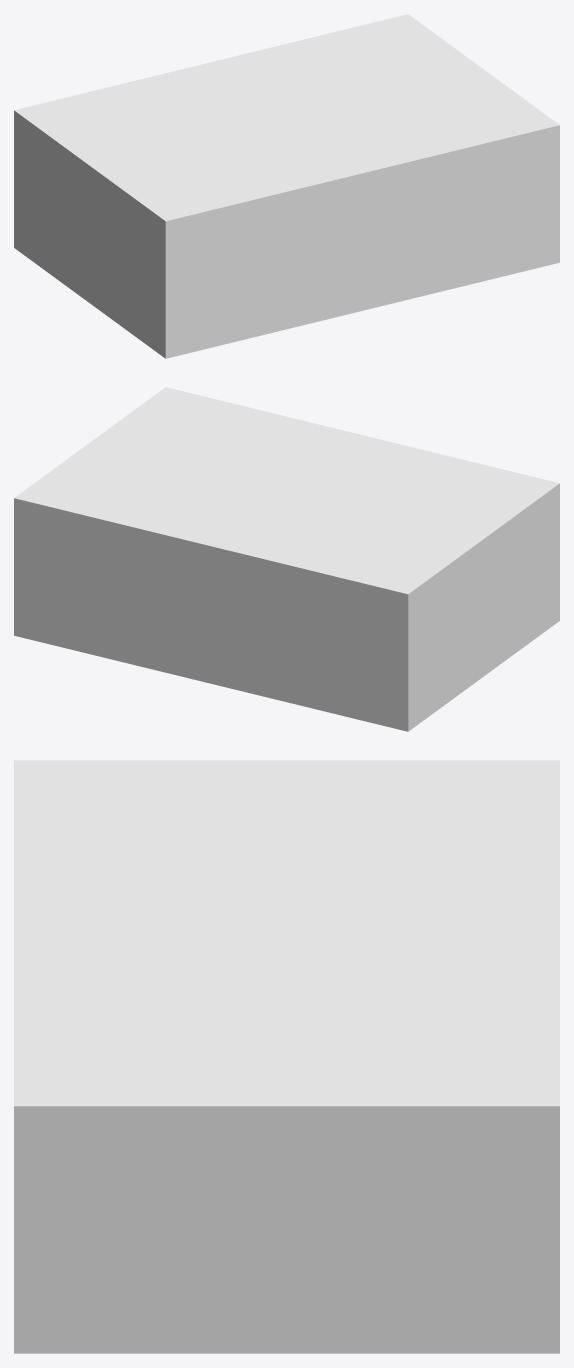
File: Mouse.gltf
3 views of the same model, one above another, from view 1: azimuth 30°, elevation 25°; view 2: azimuth 150°, elevation 25°; view 3: azimuth 270°, elevation 25° (orthographic). The views are drawn at different scales.
Size of the model in its own units: 3 by 1 by 2.
Materials: 1 (1 with a texture image).
